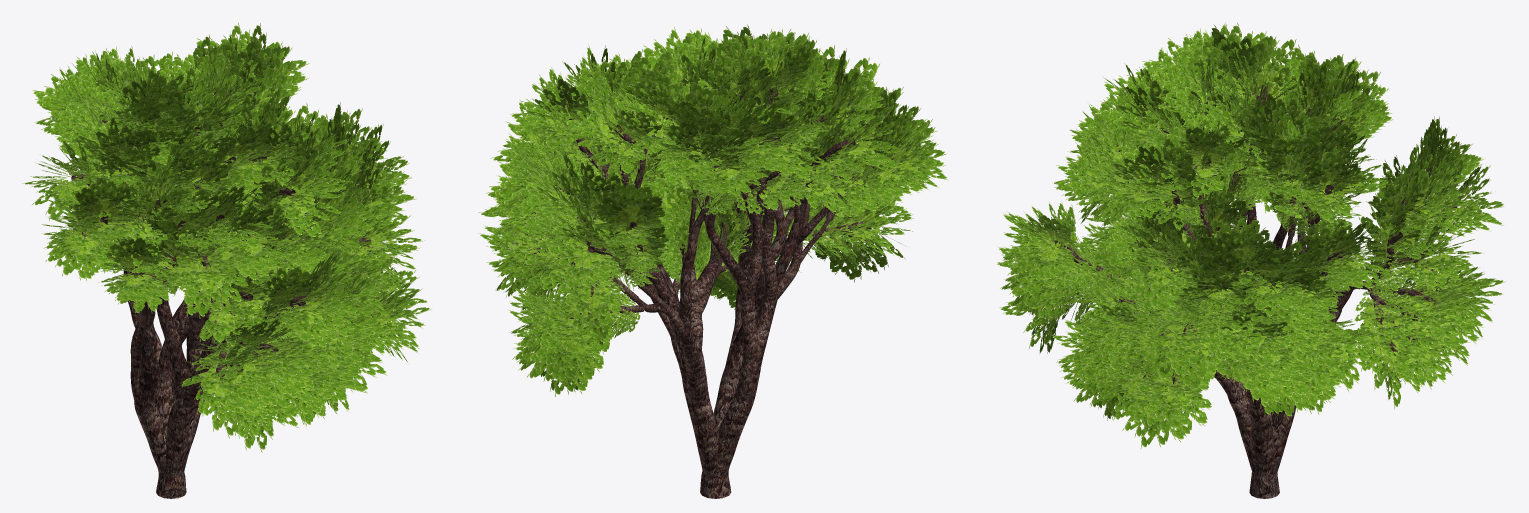
Rendered from Trees_3400_3.fbx.
The picture shows the model from 3 angles, left to right: view 1: azimuth 30°, elevation 25°; view 2: azimuth 150°, elevation 25°; view 3: azimuth 270°, elevation 25°; orthographic projection. The views are drawn at different scales.
Visible parts, largest first — view 1: leaves.002, tree.002; view 2: leaves.002, tree.002; view 3: leaves.002, tree.002.
Boxes of the visible parts, x1=… form: leaves.002: x1=22, y1=22, x2=431, y2=452; tree.002: x1=71, y1=92, x2=379, y2=498; leaves.002: x1=478, y1=24, x2=948, y2=396; tree.002: x1=531, y1=83, x2=895, y2=498; leaves.002: x1=997, y1=22, x2=1505, y2=449; tree.002: x1=1054, y1=85, x2=1457, y2=498.
Size of the model in its own units: 850 by 903 by 957.
